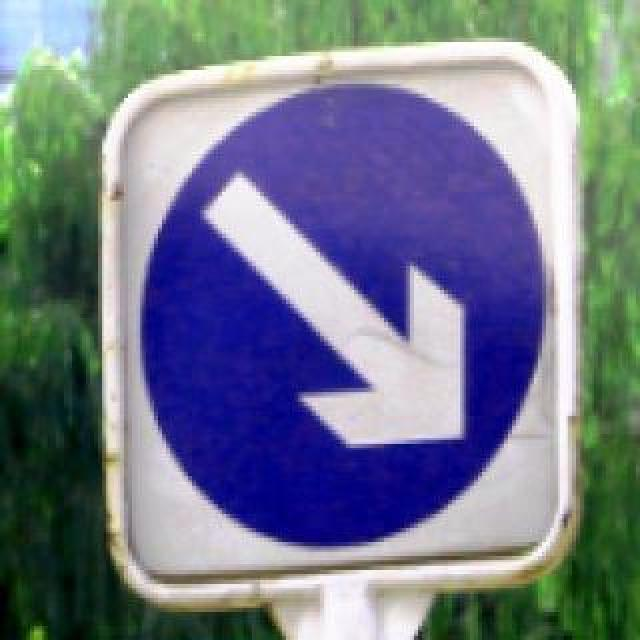keep right: (132, 76, 546, 552)
